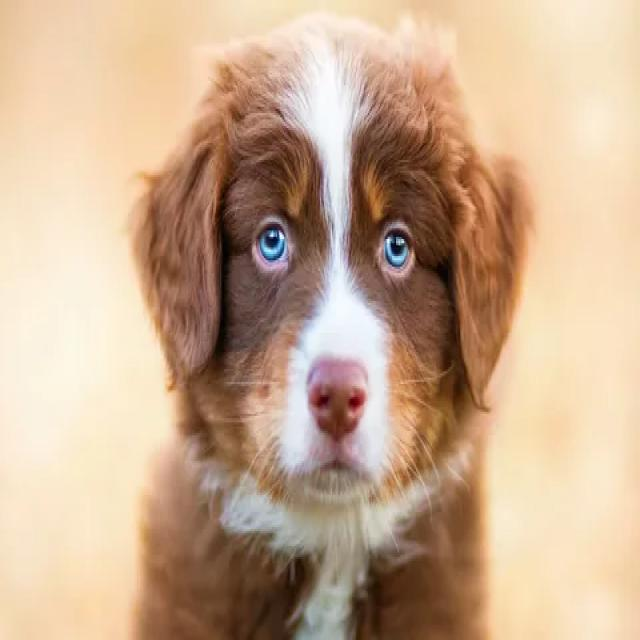Dog: (128, 11, 535, 576)
